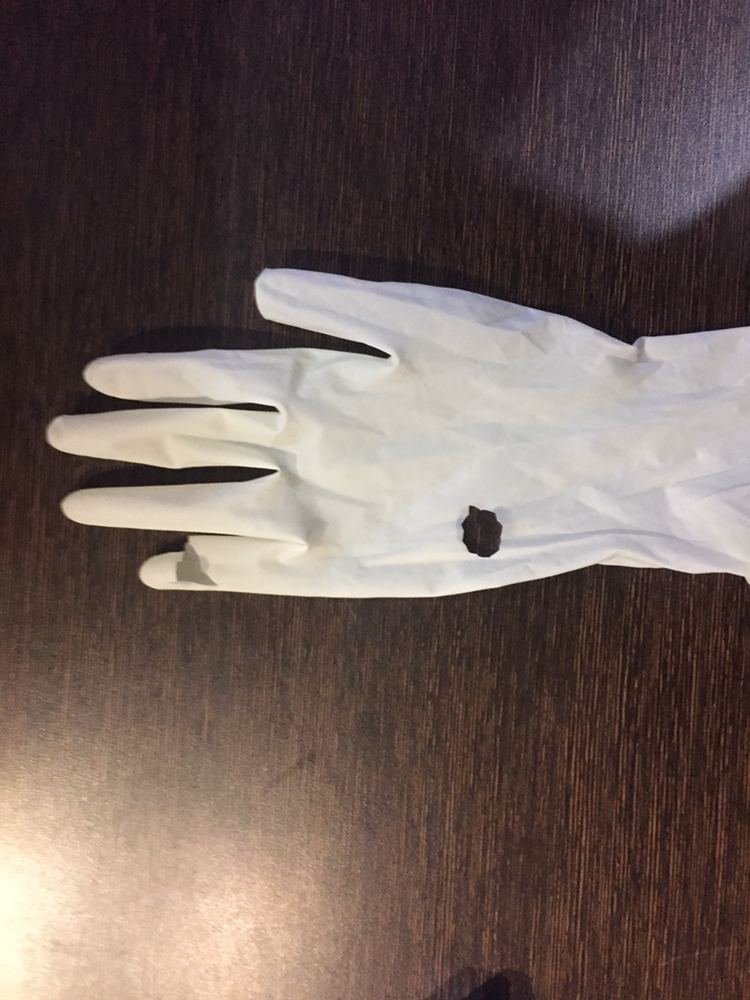defected: (42, 207, 710, 728)
